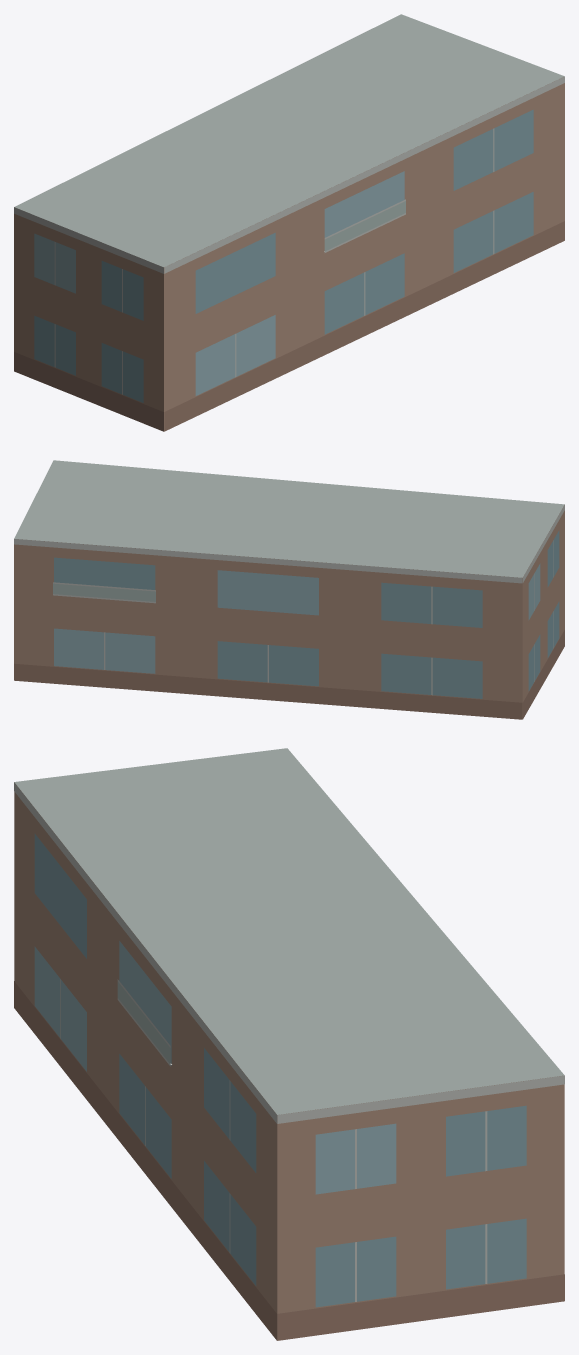
Rendered from survey-upis-32926783.glb.
3 renders of one model, top to bottom at view 1: azimuth 30°, elevation 25°; view 2: azimuth 150°, elevation 25°; view 3: azimuth 270°, elevation 25°, orthographic. The views are drawn at different scales.
Parts seen in each view (by area): view 1: survey-upis-32926783.tmp; view 2: survey-upis-32926783.tmp; view 3: survey-upis-32926783.tmp.
Part boxes in pixels (<box>): survey-upis-32926783.tmp: <box>14,14,564,431</box>; survey-upis-32926783.tmp: <box>14,460,564,719</box>; survey-upis-32926783.tmp: <box>14,748,564,1340</box>.
Bounding box in the file's own units: 21.27 × 6.1 × 13.49.
